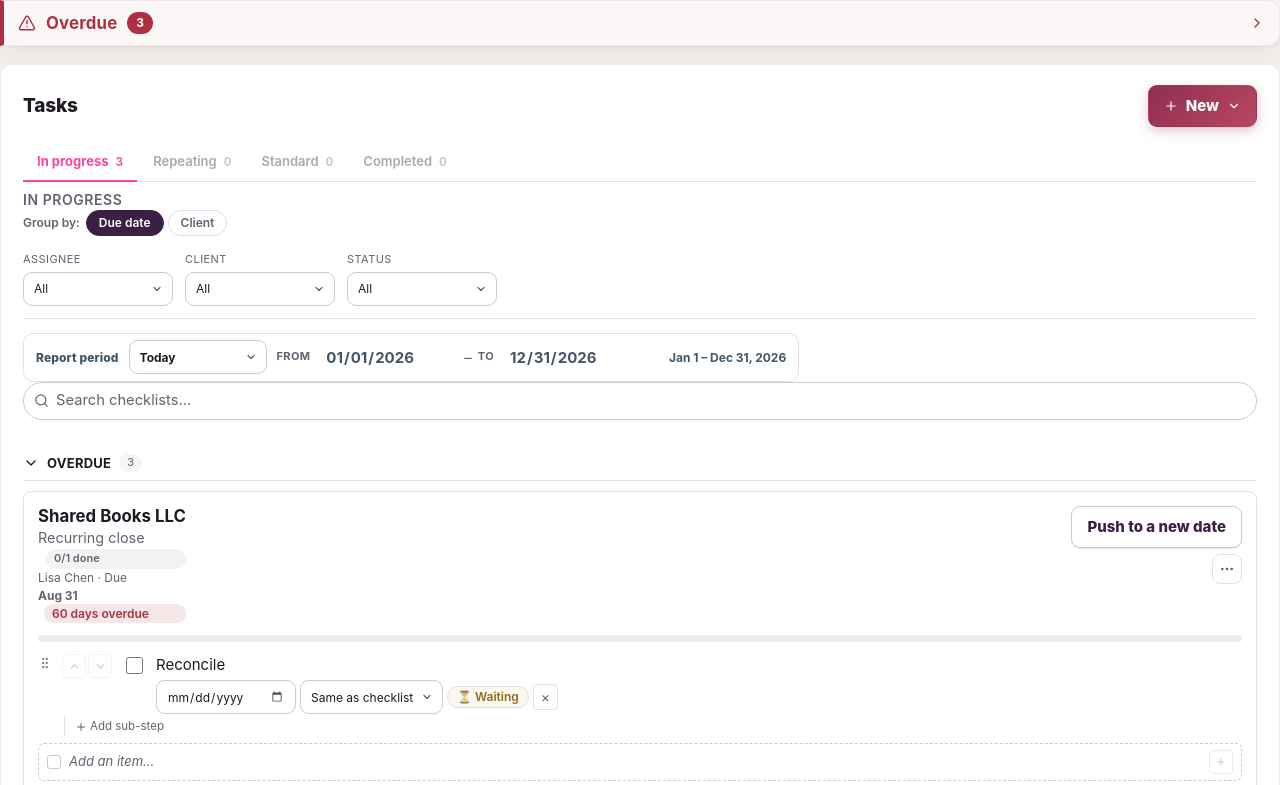
Test: deleting a step on a recurring checklist › shows what the series delete did › says how many upcoming checklists it removed the step from
Click the button named "Delete item": (545, 697) x1=533 y1=684 x2=558 y2=710
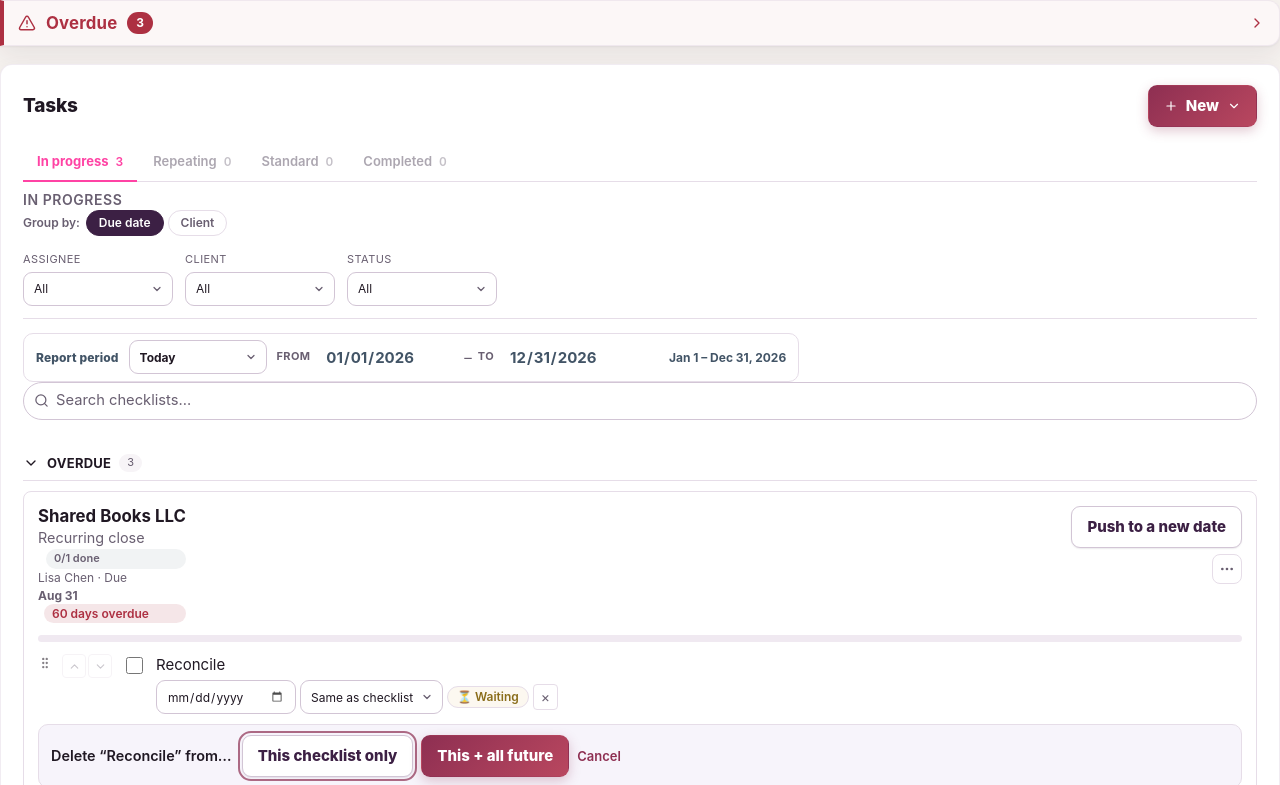
Click the button "This + all future": (495, 756) x1=421 y1=735 x2=569 y2=777
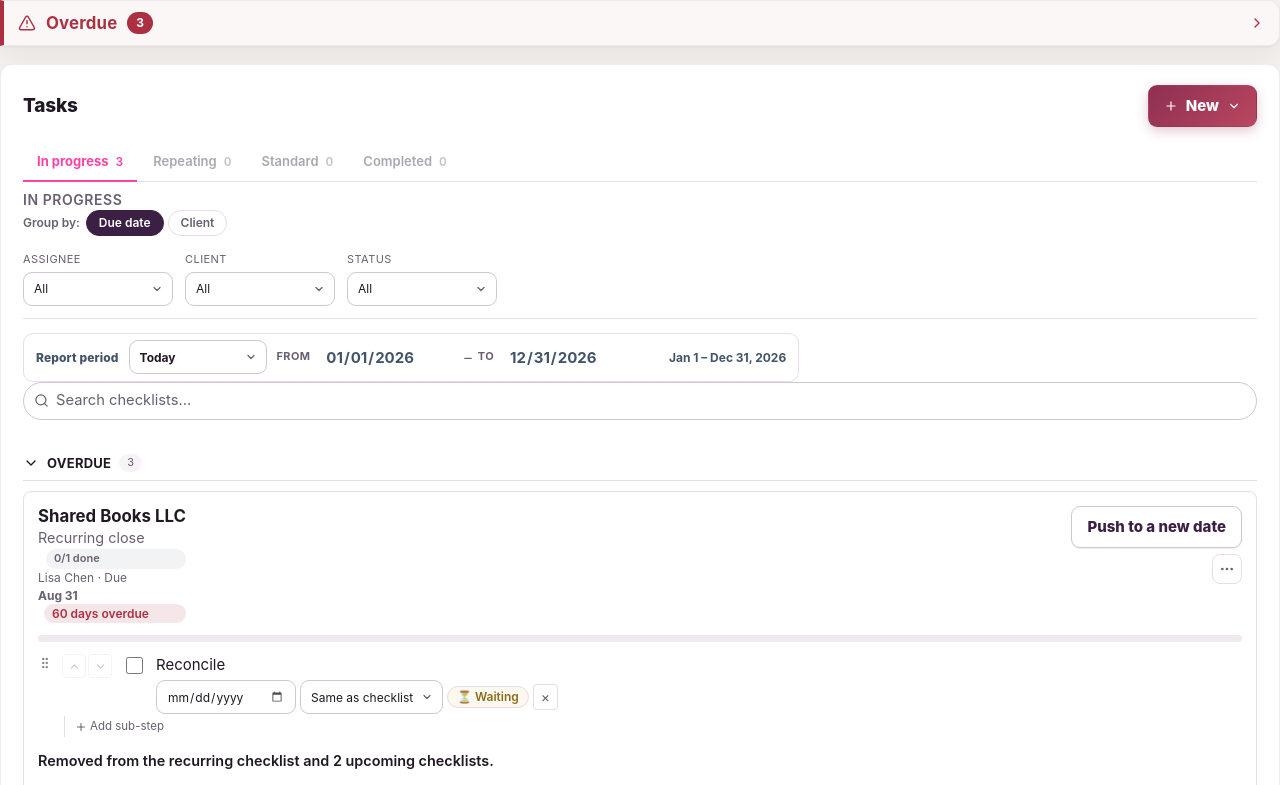
Now the message reads "Removed from the recurring checklist and 2 upcoming checklists.", box x1=38 y1=752 x2=494 y2=769
